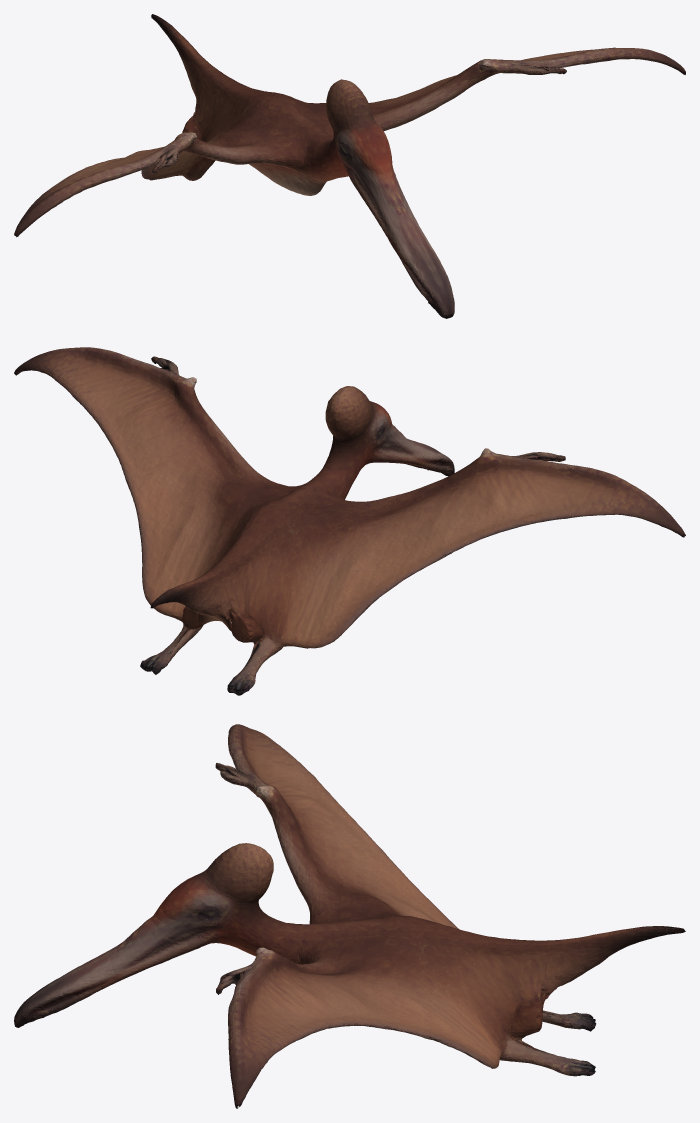
3 renders of one model, top to bottom at view 1: azimuth 30°, elevation 25°; view 2: azimuth 150°, elevation 25°; view 3: azimuth 270°, elevation 25°, orthographic. The views are drawn at different scales.
Parts seen in each view (by area): view 1: world; view 2: world; view 3: world.
Boxes of the visible parts, x1=… form: world: x1=14, y1=14, x2=685, y2=318; world: x1=14, y1=347, x2=685, y2=695; world: x1=14, y1=724, x2=685, y2=1108.
Size of the model in its own units: 1 by 0.2631 by 0.7716.
2 materials, 2 textured.
